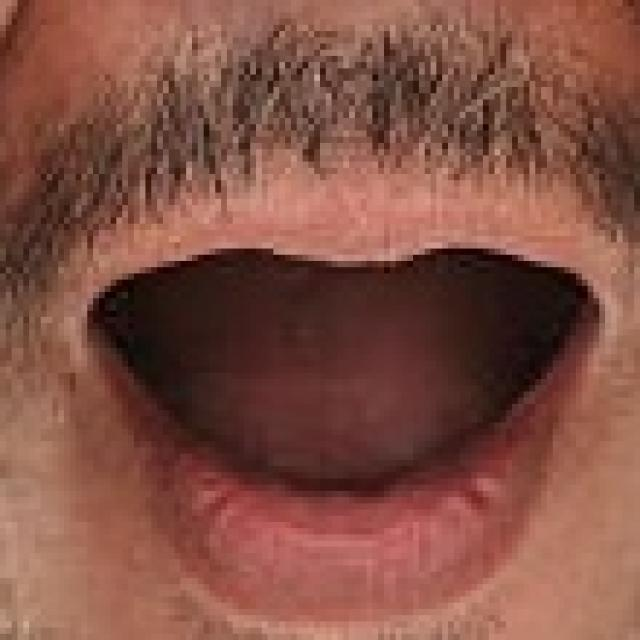open-mouth: (75, 224, 606, 622)
